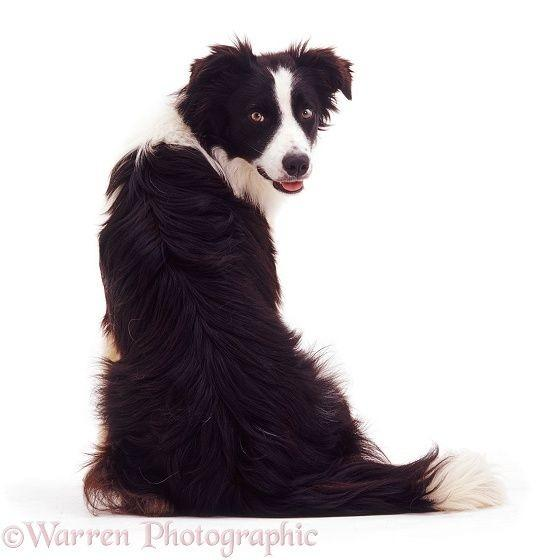adult_dog: (80, 30, 511, 519)
